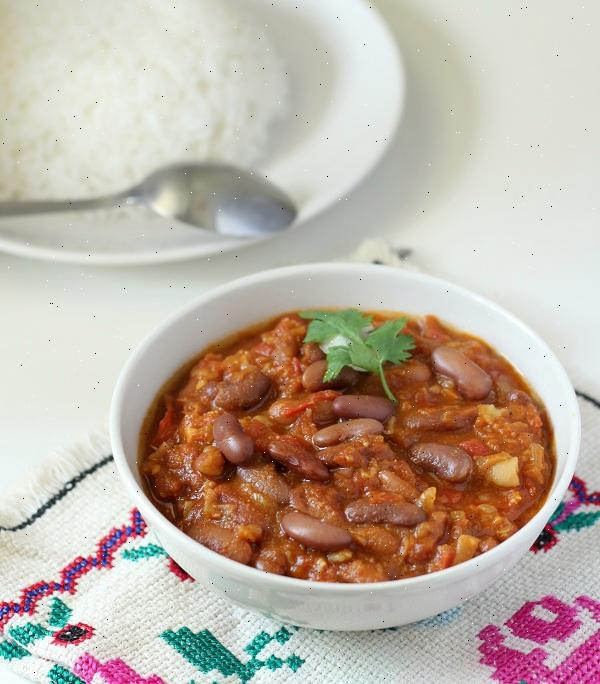rajma: (133, 312, 542, 587)
